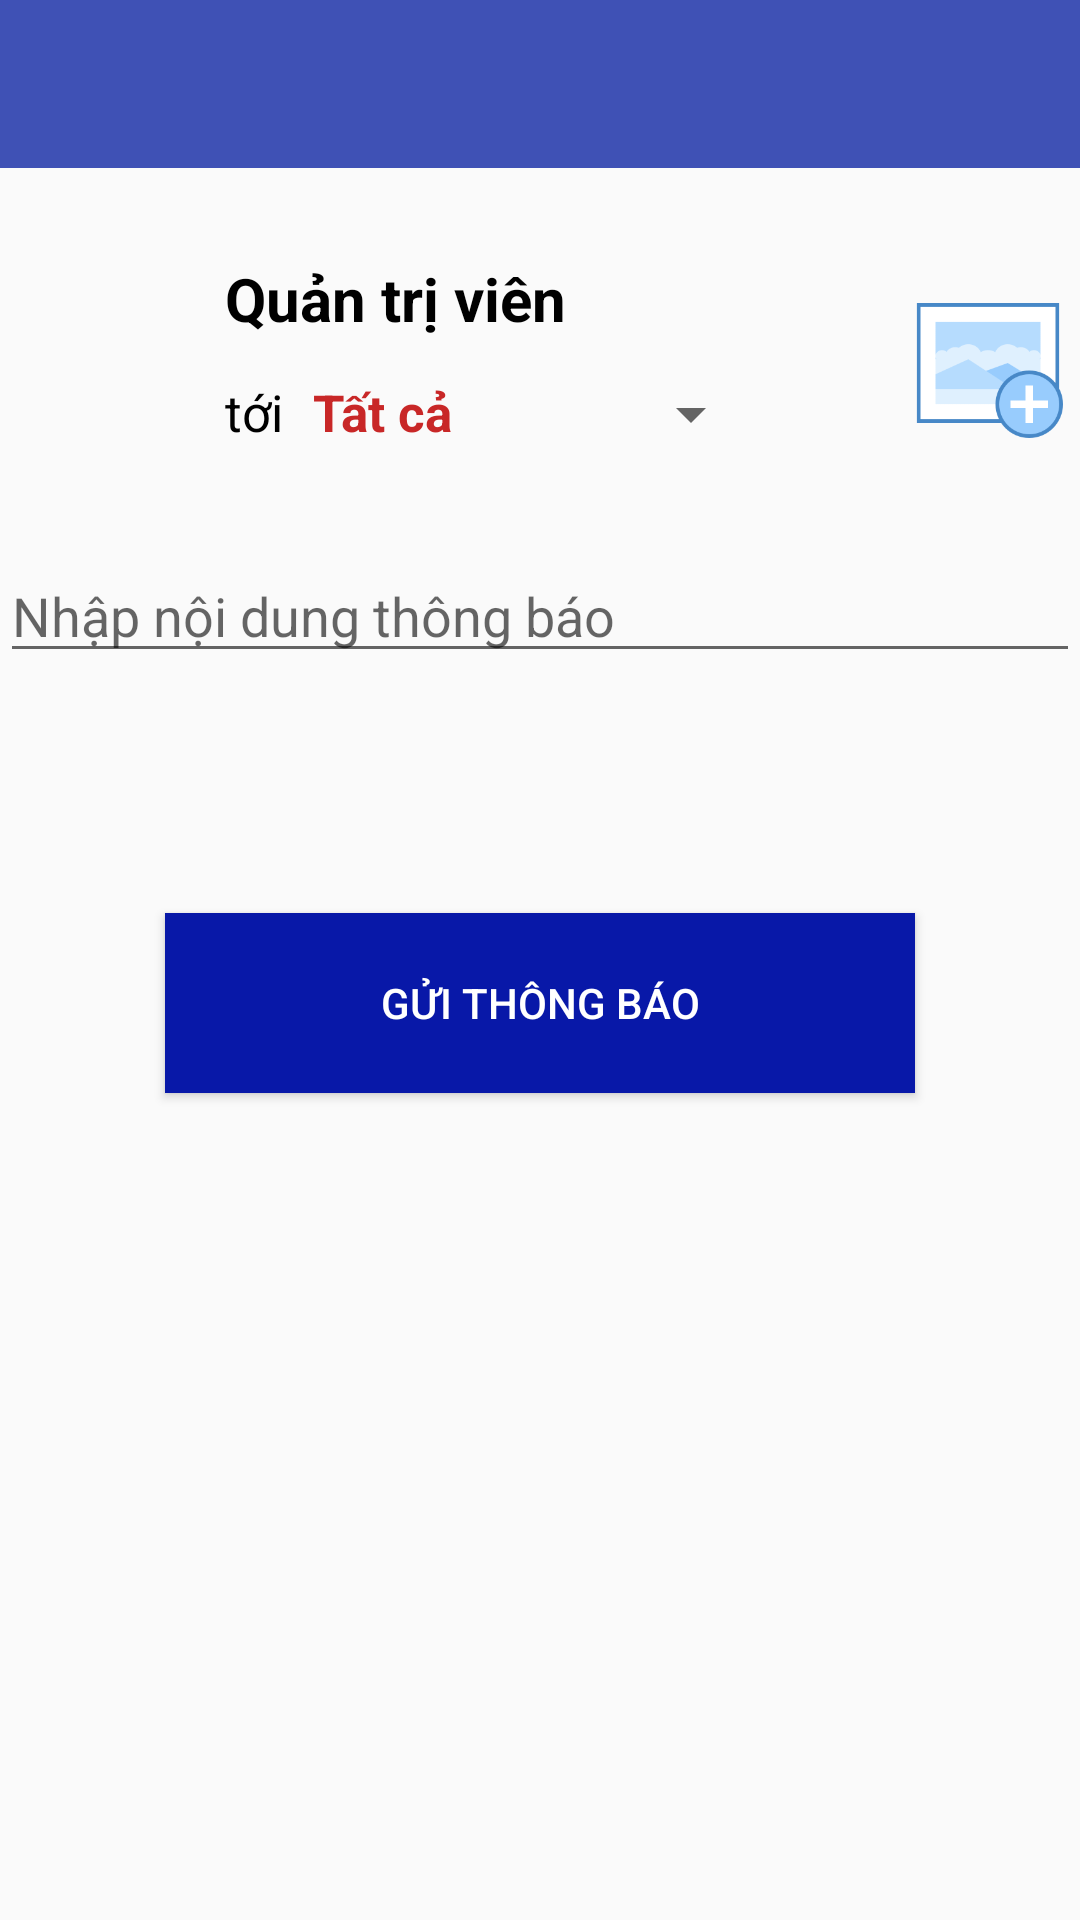

Named icons in this screenshot (1080px x 1920px) and their bounding boxes, (x1, y1, x2, y2):
themanh: (917, 303, 1063, 438)
